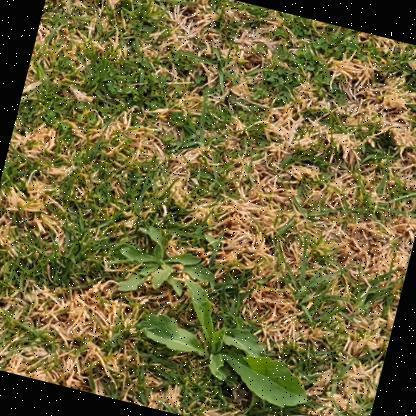Weeds: (126, 269, 329, 413), (102, 218, 222, 310)
